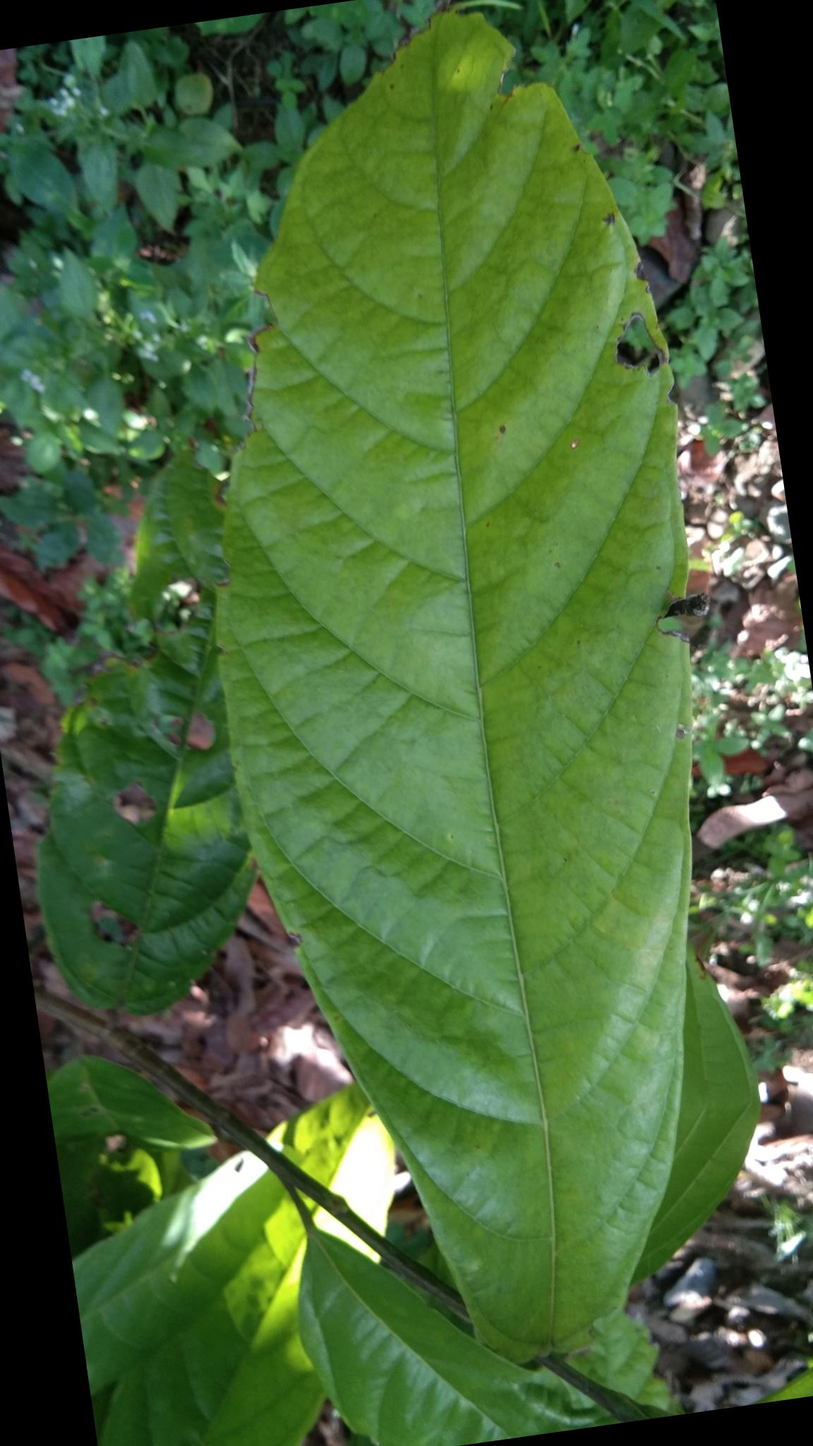Fosforo: (217, 9, 714, 1354)
